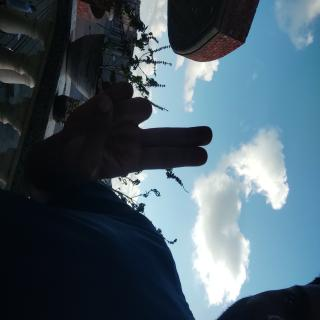TA: (60, 134, 159, 320)
